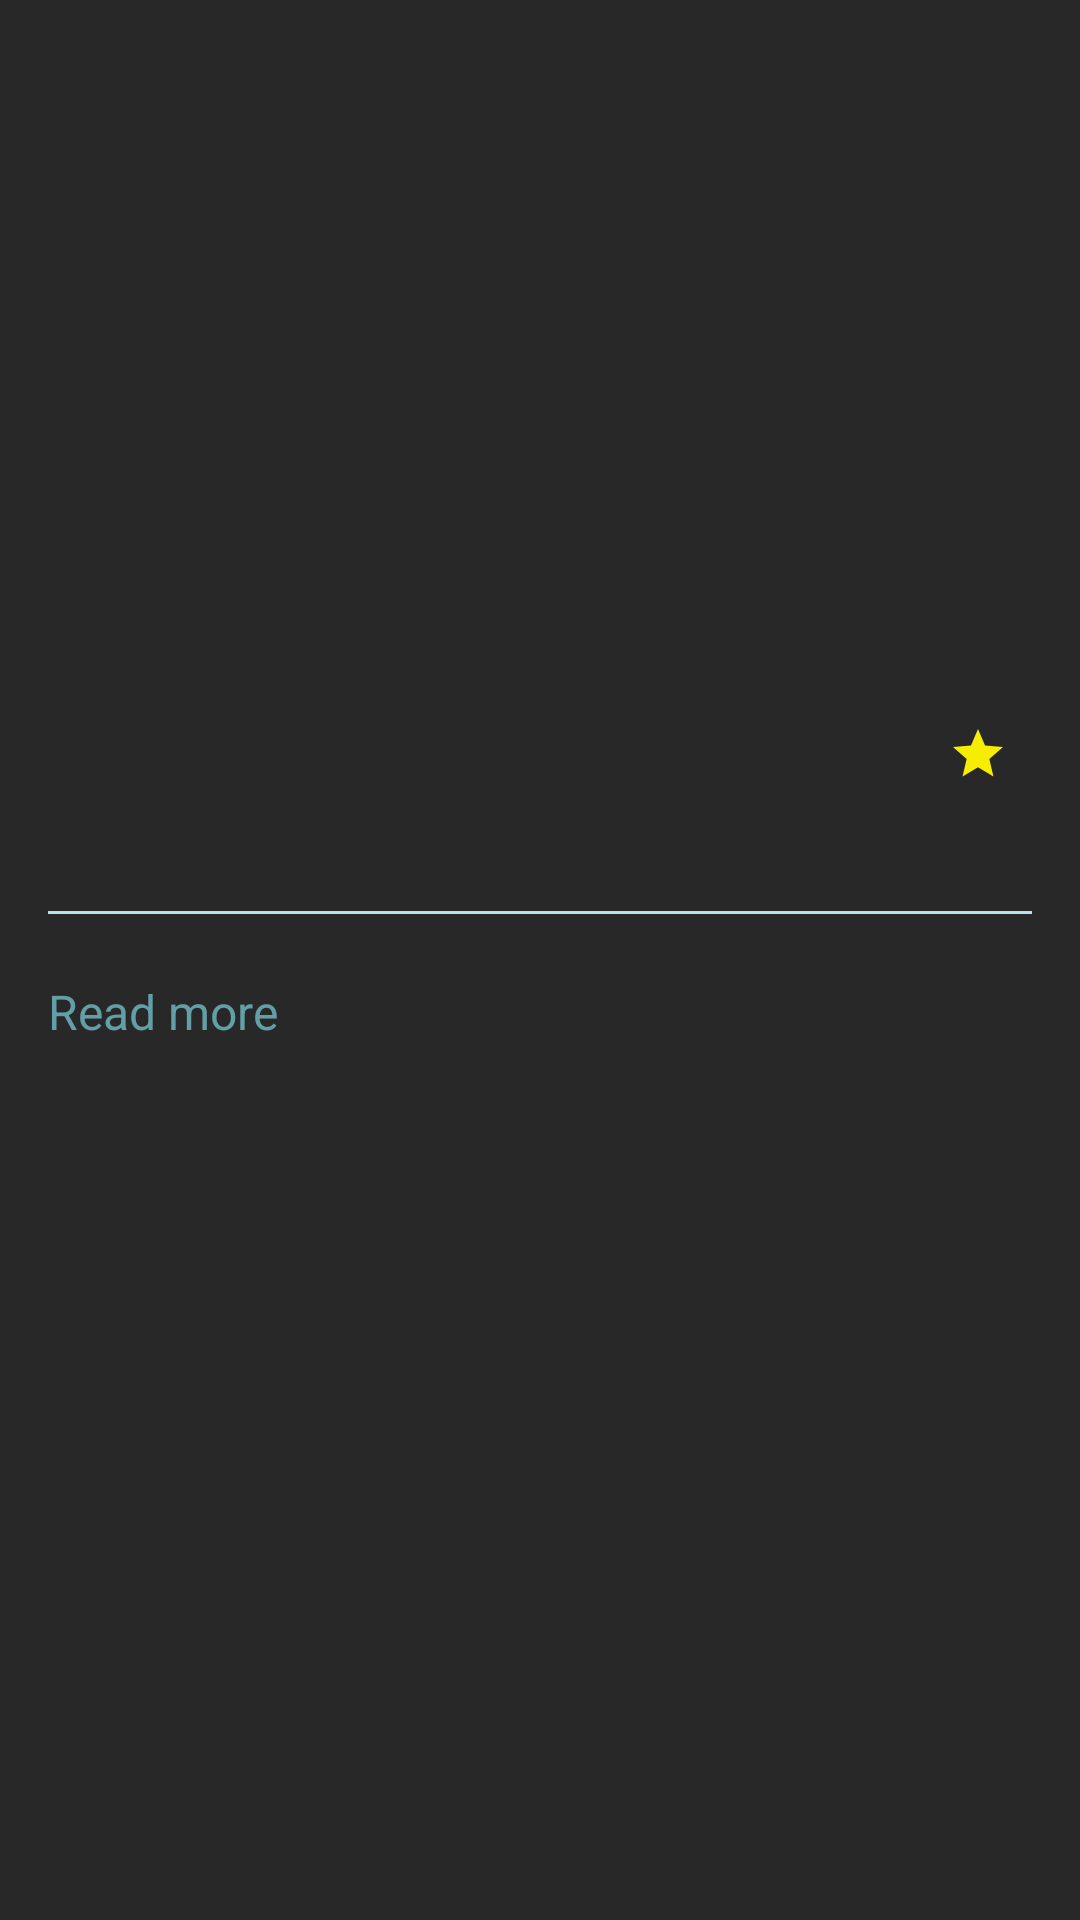

Icons on this 1080w x 1920h Android screen, each with its box as (x1, y1, x2, y2):
star: (953, 729, 1003, 777)
